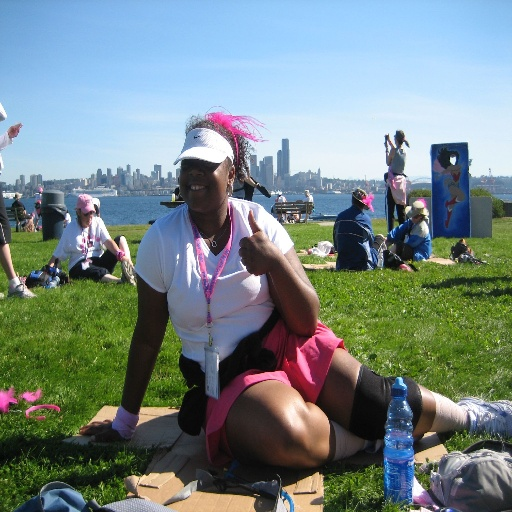hand: (239, 229, 287, 285), (79, 419, 130, 447), (7, 122, 24, 138), (121, 256, 133, 268), (384, 133, 391, 142), (384, 141, 390, 146)
